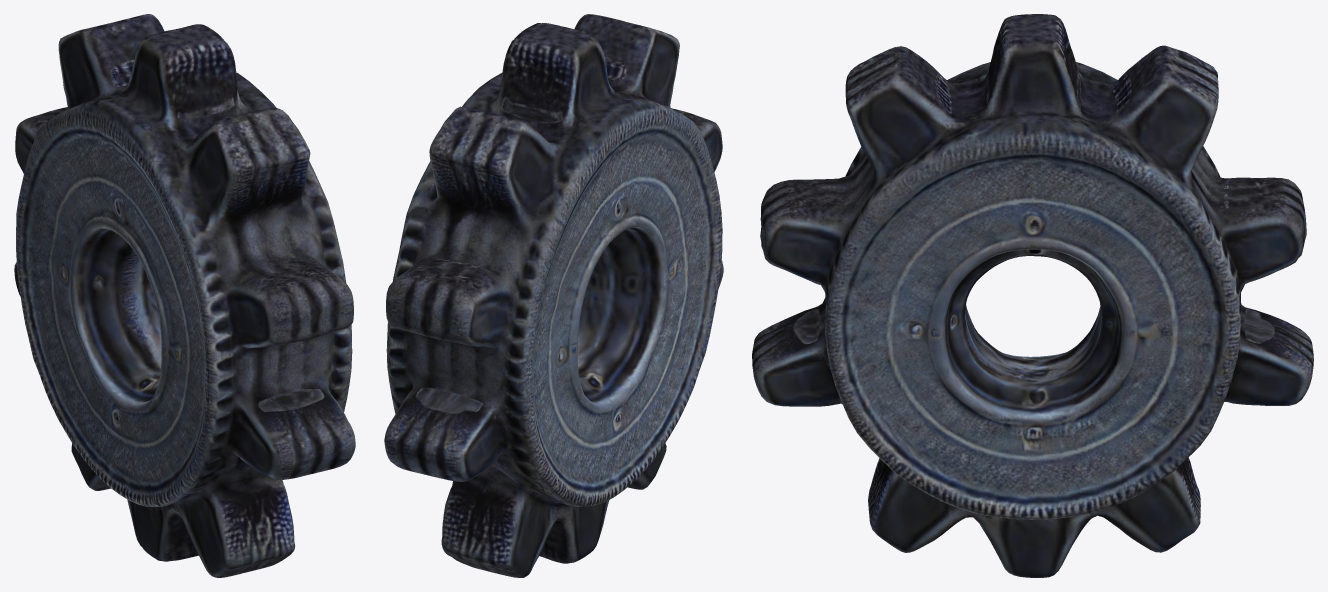
The model's file is bb010ac29b9e_a5bf5d984aec_big_gear_min.glb.
3 renders of one model, left to right at view 1: azimuth 30°, elevation 25°; view 2: azimuth 150°, elevation 25°; view 3: azimuth 270°, elevation 25°, orthographic. The views are drawn at different scales.
Visible parts, largest first — view 1: mesh; view 2: mesh; view 3: mesh.
Boxes of the visible parts, x1,y1,x2,y2 form: mesh: (14, 14, 355, 577); mesh: (384, 14, 723, 577); mesh: (752, 14, 1313, 577).
Size of the model in its own units: 0.2937 by 0.9994 by 0.9472.
1 material, 1 textured.
